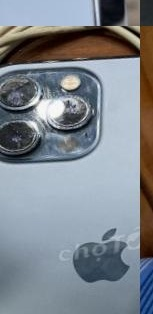scratch: (0, 42, 111, 179)
